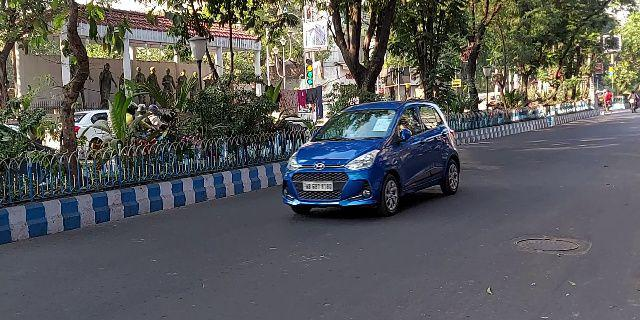Car: (283, 97, 463, 220)
